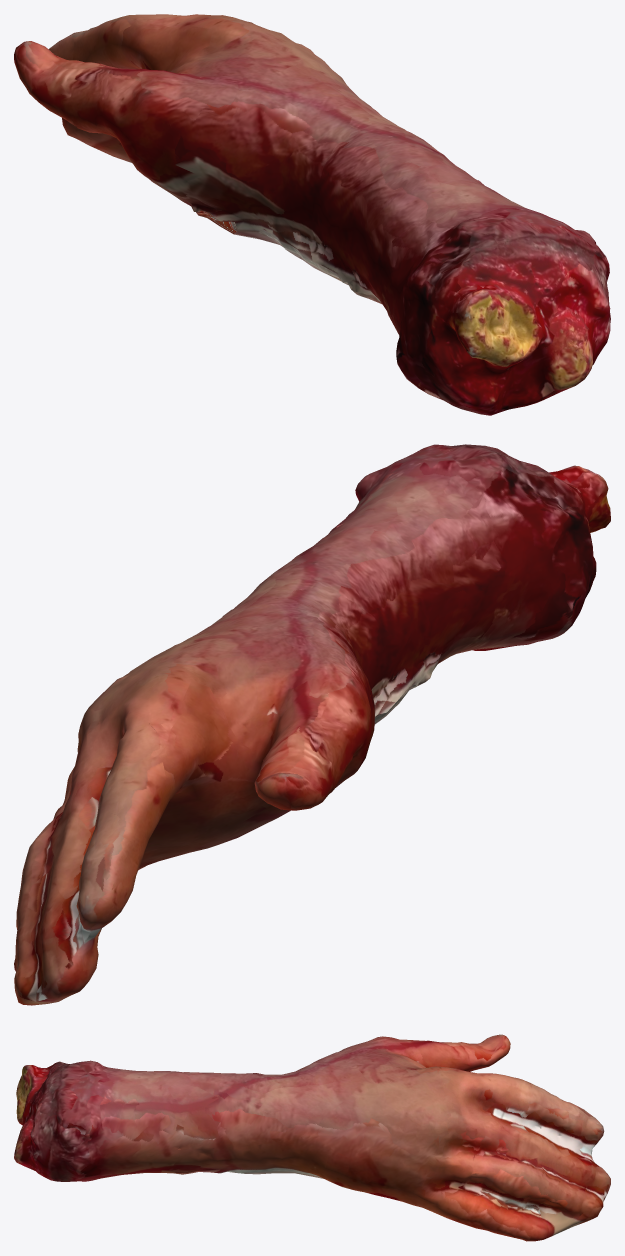
The model's file is GROSSHAND.glb.
The picture shows the model from 3 angles, top to bottom: view 1: azimuth 30°, elevation 25°; view 2: azimuth 150°, elevation 25°; view 3: azimuth 270°, elevation 25°; orthographic projection. The views are drawn at different scales.
Parts seen in each view (by area): view 1: model.001; view 2: model.001; view 3: model.001.
Part boxes in pixels (x1=…): model.001: x1=14, y1=14, x2=610, y2=415; model.001: x1=14, y1=444, x2=610, y2=1005; model.001: x1=14, y1=1034, x2=610, y2=1241.
Bounding box in the file's own units: 0.2059 × 0.1762 × 0.6197.
Materials: 1 (1 with a texture image).
